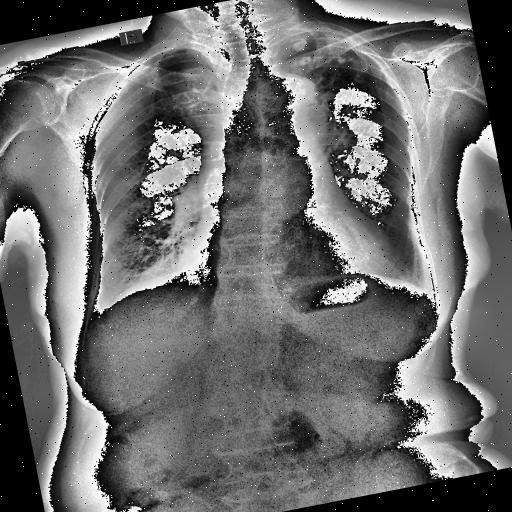0- Aortic enlargement: (252, 68, 332, 155), (240, 65, 328, 138), (266, 70, 326, 126)
11- Pleural thickening: (71, 282, 117, 332), (78, 292, 114, 332), (270, 22, 330, 46), (148, 43, 190, 61)
13- Pulmonary fibrosis: (290, 24, 393, 114), (292, 55, 310, 68), (292, 40, 308, 52), (352, 74, 366, 86), (336, 54, 348, 65)
2- Calcification: (290, 24, 393, 114)
3- Cardiomegaly: (168, 202, 401, 322), (171, 213, 401, 329), (176, 190, 398, 310)
7- Lung Opacity: (158, 40, 226, 144)
8- Nodule-Mass: (292, 53, 316, 68), (292, 34, 310, 52), (292, 55, 310, 68), (335, 54, 353, 66), (292, 40, 308, 52), (352, 74, 366, 86), (336, 54, 348, 65)
